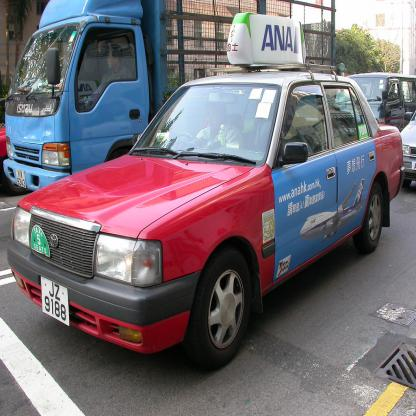taxi: (9, 9, 410, 377)
